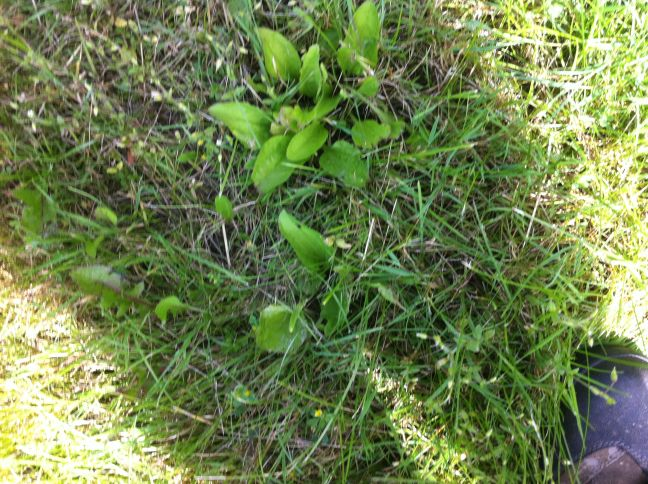weed1: (206, 1, 396, 194), (258, 209, 338, 357)
